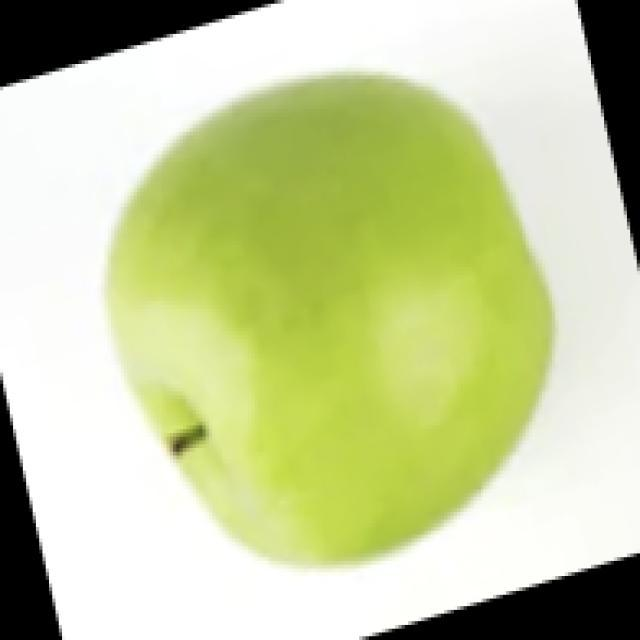Apple: (104, 68, 555, 568)
